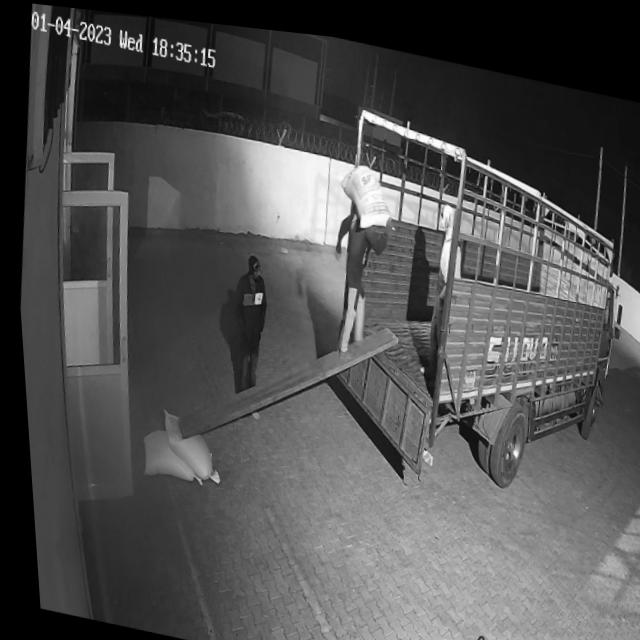sack: (151, 404, 219, 479), (332, 152, 395, 229), (132, 421, 200, 484)
